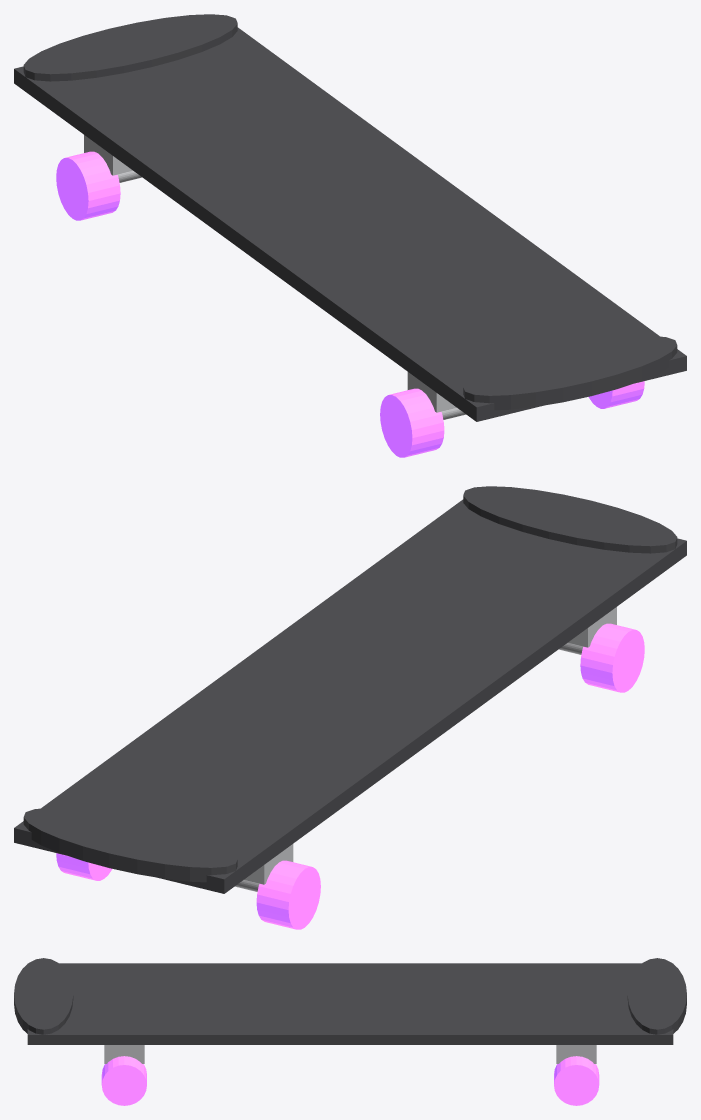
The model's file is metal_skateboard_4wheel_PLACEHOLDER.glb.
The picture shows the model from 3 angles, top to bottom: view 1: azimuth 30°, elevation 25°; view 2: azimuth 150°, elevation 25°; view 3: azimuth 270°, elevation 25°; orthographic projection. The views are drawn at different scales.
Visible parts, largest first — view 1: Deck, Kick_+0.38, Kick_-0.38, Wheel_BR, Wheel_FR, Wheel_FL; view 2: Deck, Kick_-0.38, Kick_+0.38, Wheel_FR, Wheel_BR, Wheel_BL; view 3: Deck, Kick_+0.38, Kick_-0.38, Wheel_FL, Wheel_BL, Truck_+0.28, Truck_-0.28.
Boxes of the visible parts, x1=… form: Deck: x1=14, y1=27, x2=686, y2=421; Kick_+0.38: x1=463, y1=336, x2=677, y2=410; Kick_-0.38: x1=23, y1=14, x2=237, y2=81; Wheel_BR: x1=56, y1=151, x2=120, y2=220; Wheel_FR: x1=380, y1=388, x2=444, y2=457; Wheel_FL: x1=588, y1=381, x2=644, y2=408; Deck: x1=14, y1=499, x2=686, y2=893; Kick_-0.38: x1=23, y1=808, x2=237, y2=882; Kick_+0.38: x1=463, y1=486, x2=677, y2=553; Wheel_FR: x1=580, y1=623, x2=644, y2=692; Wheel_BR: x1=256, y1=860, x2=320, y2=929; Wheel_BL: x1=56, y1=853, x2=112, y2=880; Deck: x1=27, y1=963, x2=673, y2=1044; Kick_+0.38: x1=14, y1=958, x2=73, y2=1034; Kick_-0.38: x1=627, y1=958, x2=686, y2=1034; Wheel_FL: x1=101, y1=1056, x2=146, y2=1105; Wheel_BL: x1=554, y1=1056, x2=599, y2=1105; Truck_+0.28: x1=104, y1=1045, x2=144, y2=1063; Truck_-0.28: x1=556, y1=1045, x2=596, y2=1063.
Bounding box in the file's own units: 0.232 × 0.099 × 0.8335.
